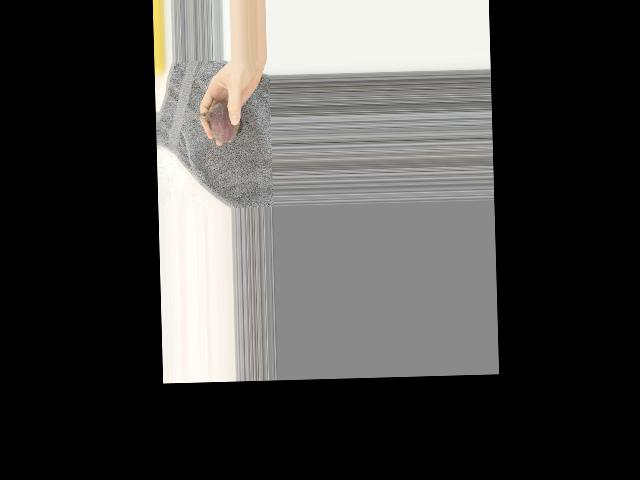beet: (181, 101, 243, 143)
